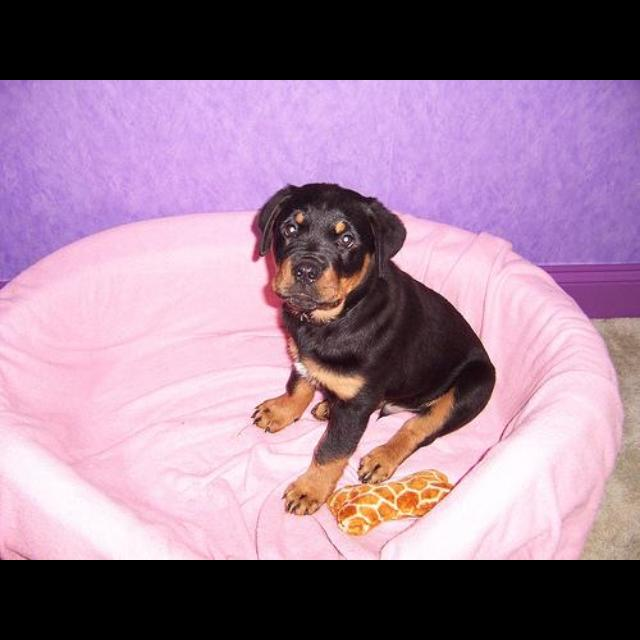rottweiler: (249, 181, 497, 517)
